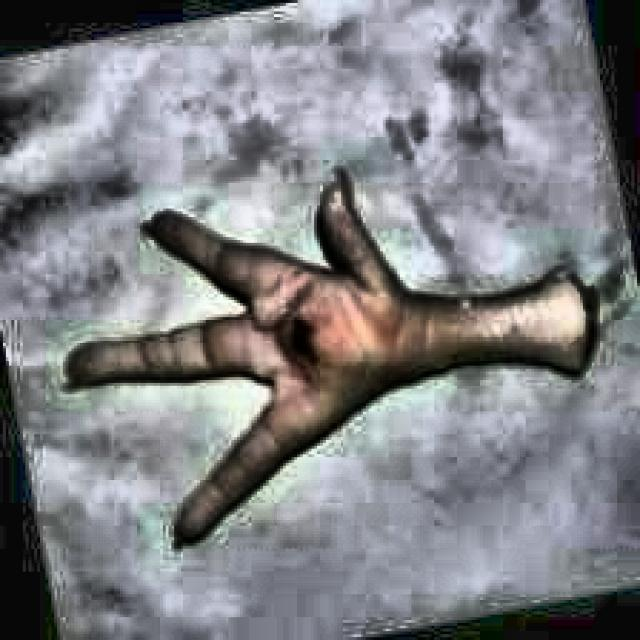Bumble foot: (60, 163, 600, 548)
